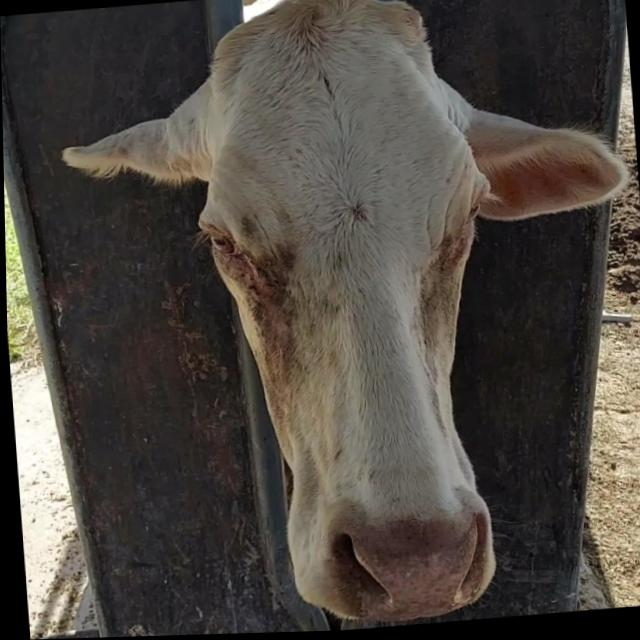cowFace: (183, 0, 516, 631)
